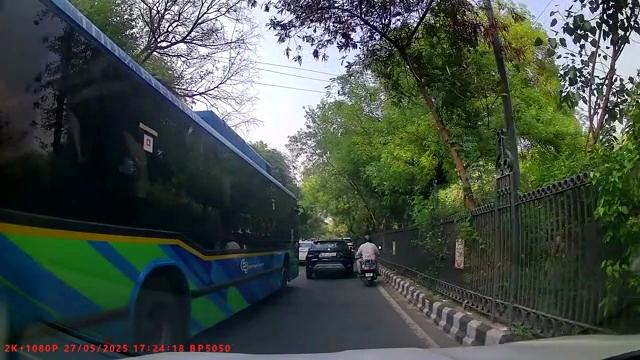motorcycle_with_helmet: (356, 235, 381, 287)
